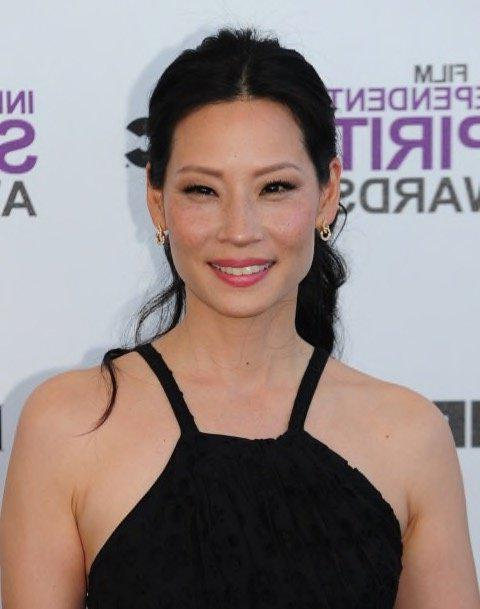Sober: (173, 132, 312, 301)
